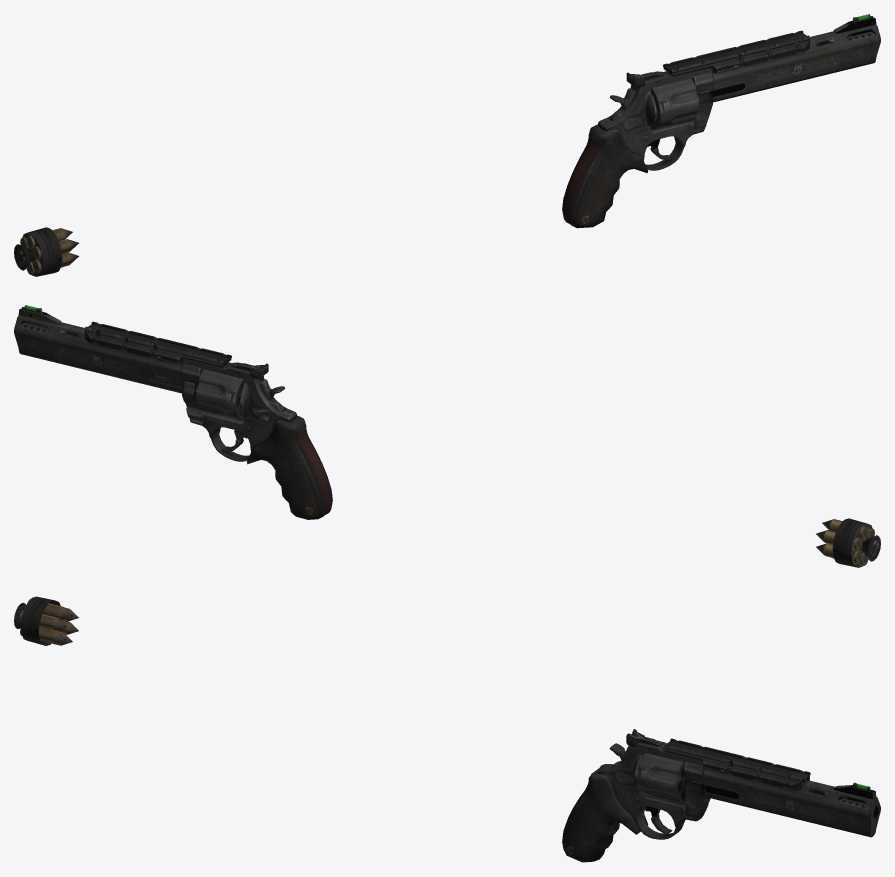
The model's file is magnum.glb.
3 views of the same model, one above another, from view 1: azimuth 30°, elevation 25°; view 2: azimuth 150°, elevation 25°; view 3: azimuth 330°, elevation 25° (orthographic).
Parts seen in each view (by area): view 1: Magnum; view 2: Magnum; view 3: Magnum.
Boxes of the visible parts, box(x1,y1,x2,y2) form: Magnum: box(14, 14, 880, 276); Magnum: box(14, 305, 880, 567); Magnum: box(14, 596, 880, 862).
Size of the model in its own units: 11982 by 1897 by 590.
Materials: 1 (1 with a texture image).
